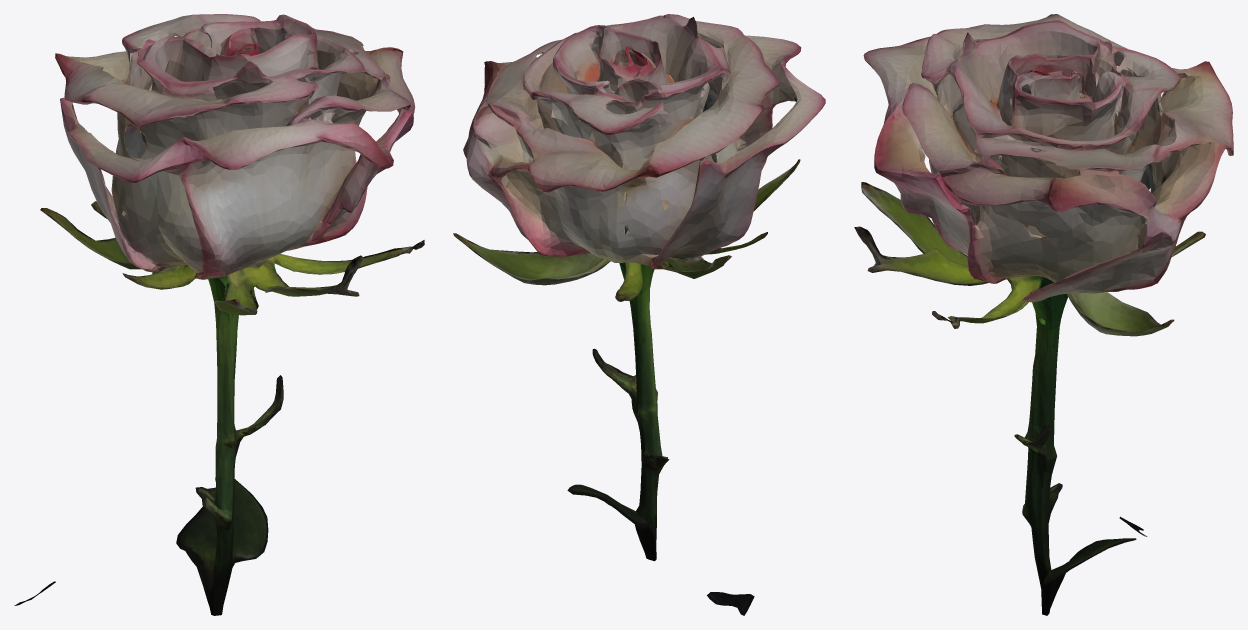
3 views of the same model, side by side, from view 1: azimuth 30°, elevation 25°; view 2: azimuth 150°, elevation 25°; view 3: azimuth 270°, elevation 25° (orthographic). The views are drawn at different scales.
Parts seen in each view (by area): view 1: world; view 2: world; view 3: world.
Boxes of the visible parts, left/top/right/bottom form: world: left=14, top=14, right=424, bottom=615; world: left=453, top=14, right=825, bottom=615; world: left=854, top=14, right=1233, bottom=615.
Size of the model in its own units: 0.6097 by 0.9974 by 0.594.
Materials: 1 (1 with a texture image).
